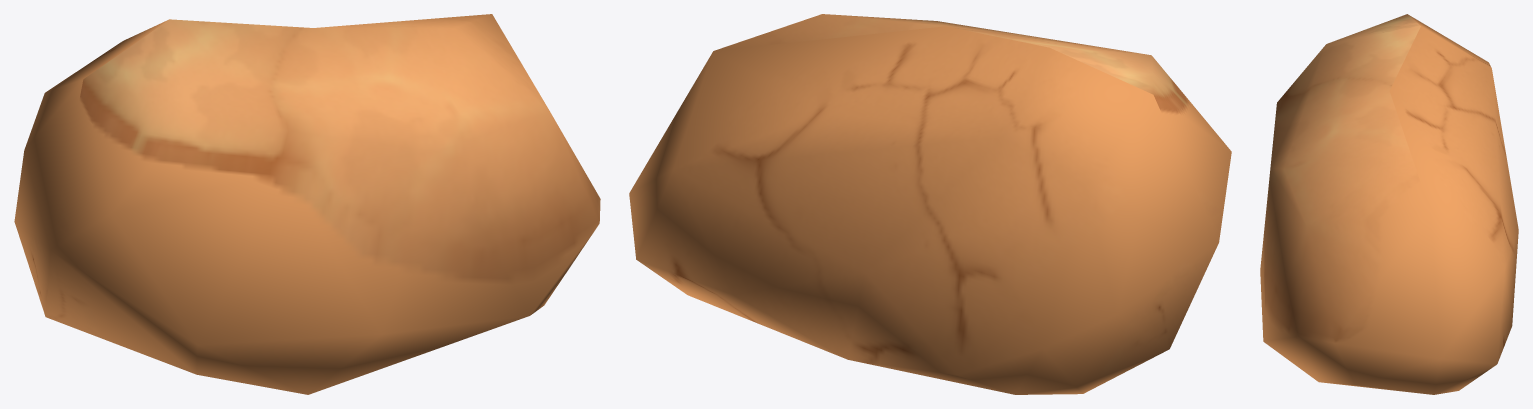
Rendered from Subrock_8.fbx.
The picture shows the model from 3 angles, left to right: view 1: azimuth 30°, elevation 25°; view 2: azimuth 150°, elevation 25°; view 3: azimuth 270°, elevation 25°; orthographic projection. The views are drawn at different scales.
Parts seen in each view (by area): view 1: Rock_8_LOD0; view 2: Rock_8_LOD0; view 3: Rock_8_LOD0.
Boxes of the visible parts, <box> form: Rock_8_LOD0: <box>14,14,600,394</box>; Rock_8_LOD0: <box>629,14,1231,394</box>; Rock_8_LOD0: <box>1260,14,1518,394</box>.
Size of what is drawn, in the model's own units: 39 by 21.67 by 20.66.
